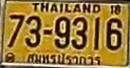1: (94, 16, 99, 50)
3: (24, 15, 40, 46), (71, 16, 86, 48)
6: (106, 17, 121, 49)
7: (8, 14, 24, 46)
9: (54, 16, 69, 48)
SPK: (24, 50, 102, 67)
